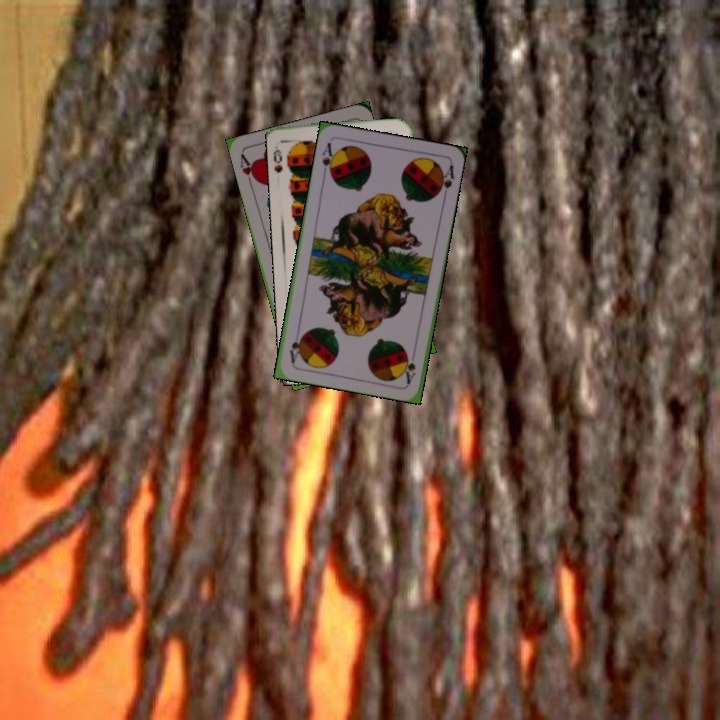HA: (236, 150, 260, 190)
S8: (270, 142, 285, 175)
SA: (318, 138, 338, 180), (401, 345, 418, 386)
